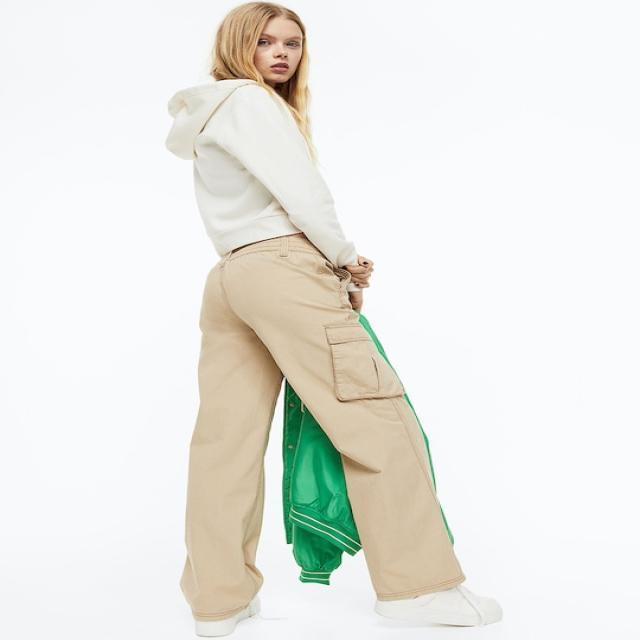sweater: (165, 76, 370, 274)
trousers: (173, 233, 470, 626)
